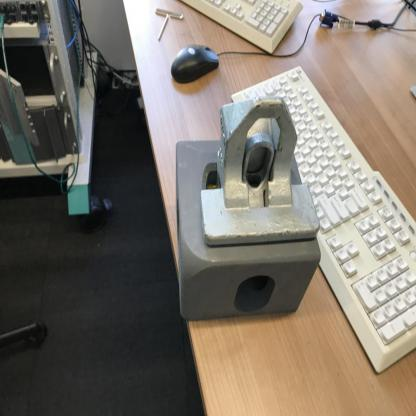CornerCasting: (166, 147, 317, 320)
Twistlock: (201, 96, 320, 242)
